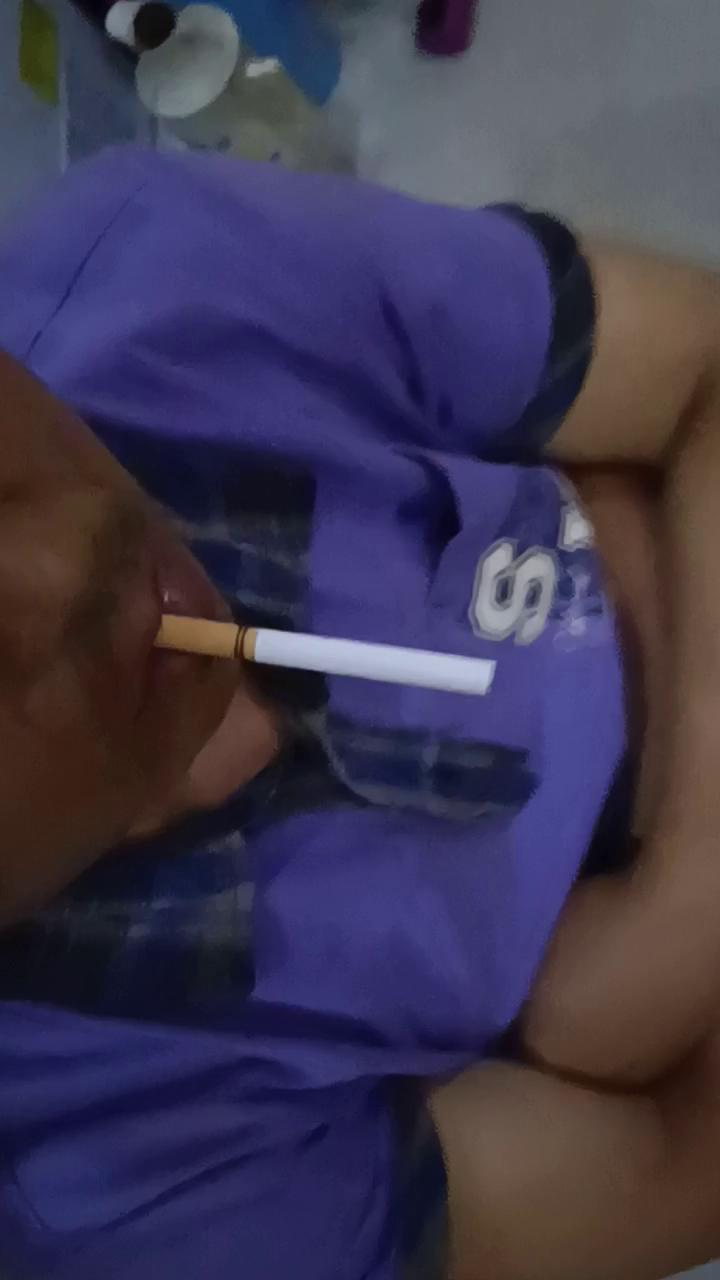smoke: (156, 612, 505, 698)
